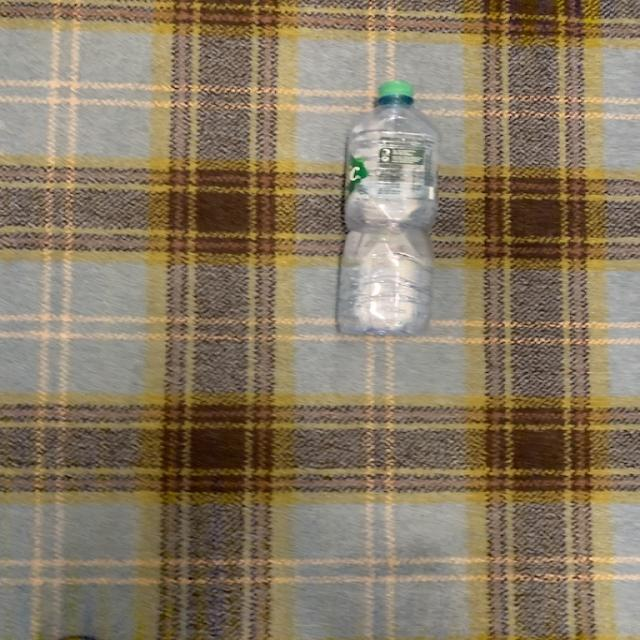PET: (338, 82, 443, 340)
